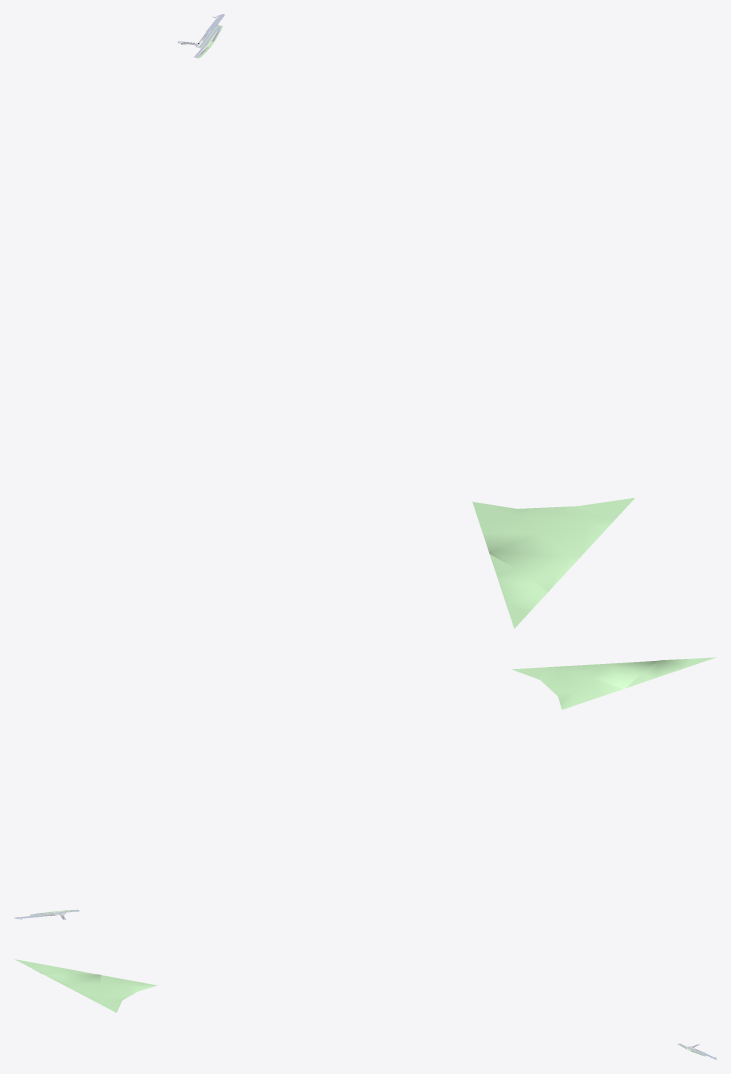
Rendered from esentai-corr.glb.
3 renders of one model, top to bottom at view 1: azimuth 30°, elevation 25°; view 2: azimuth 150°, elevation 25°; view 3: azimuth 270°, elevation 25°, orthographic. The views are drawn at different scales.
Parts seen in each view (by area): view 1: group_9; view 2: group_9; view 3: group_9.
Boxes of the visible parts, x1,y1,x2,y2 form: group_9: (472,498,634,628); group_9: (512,657,715,709); group_9: (14,959,157,1012).
Bounding box in the file's own units: 2406 × 40.44 × 7091.
15 materials, 3 textured.
